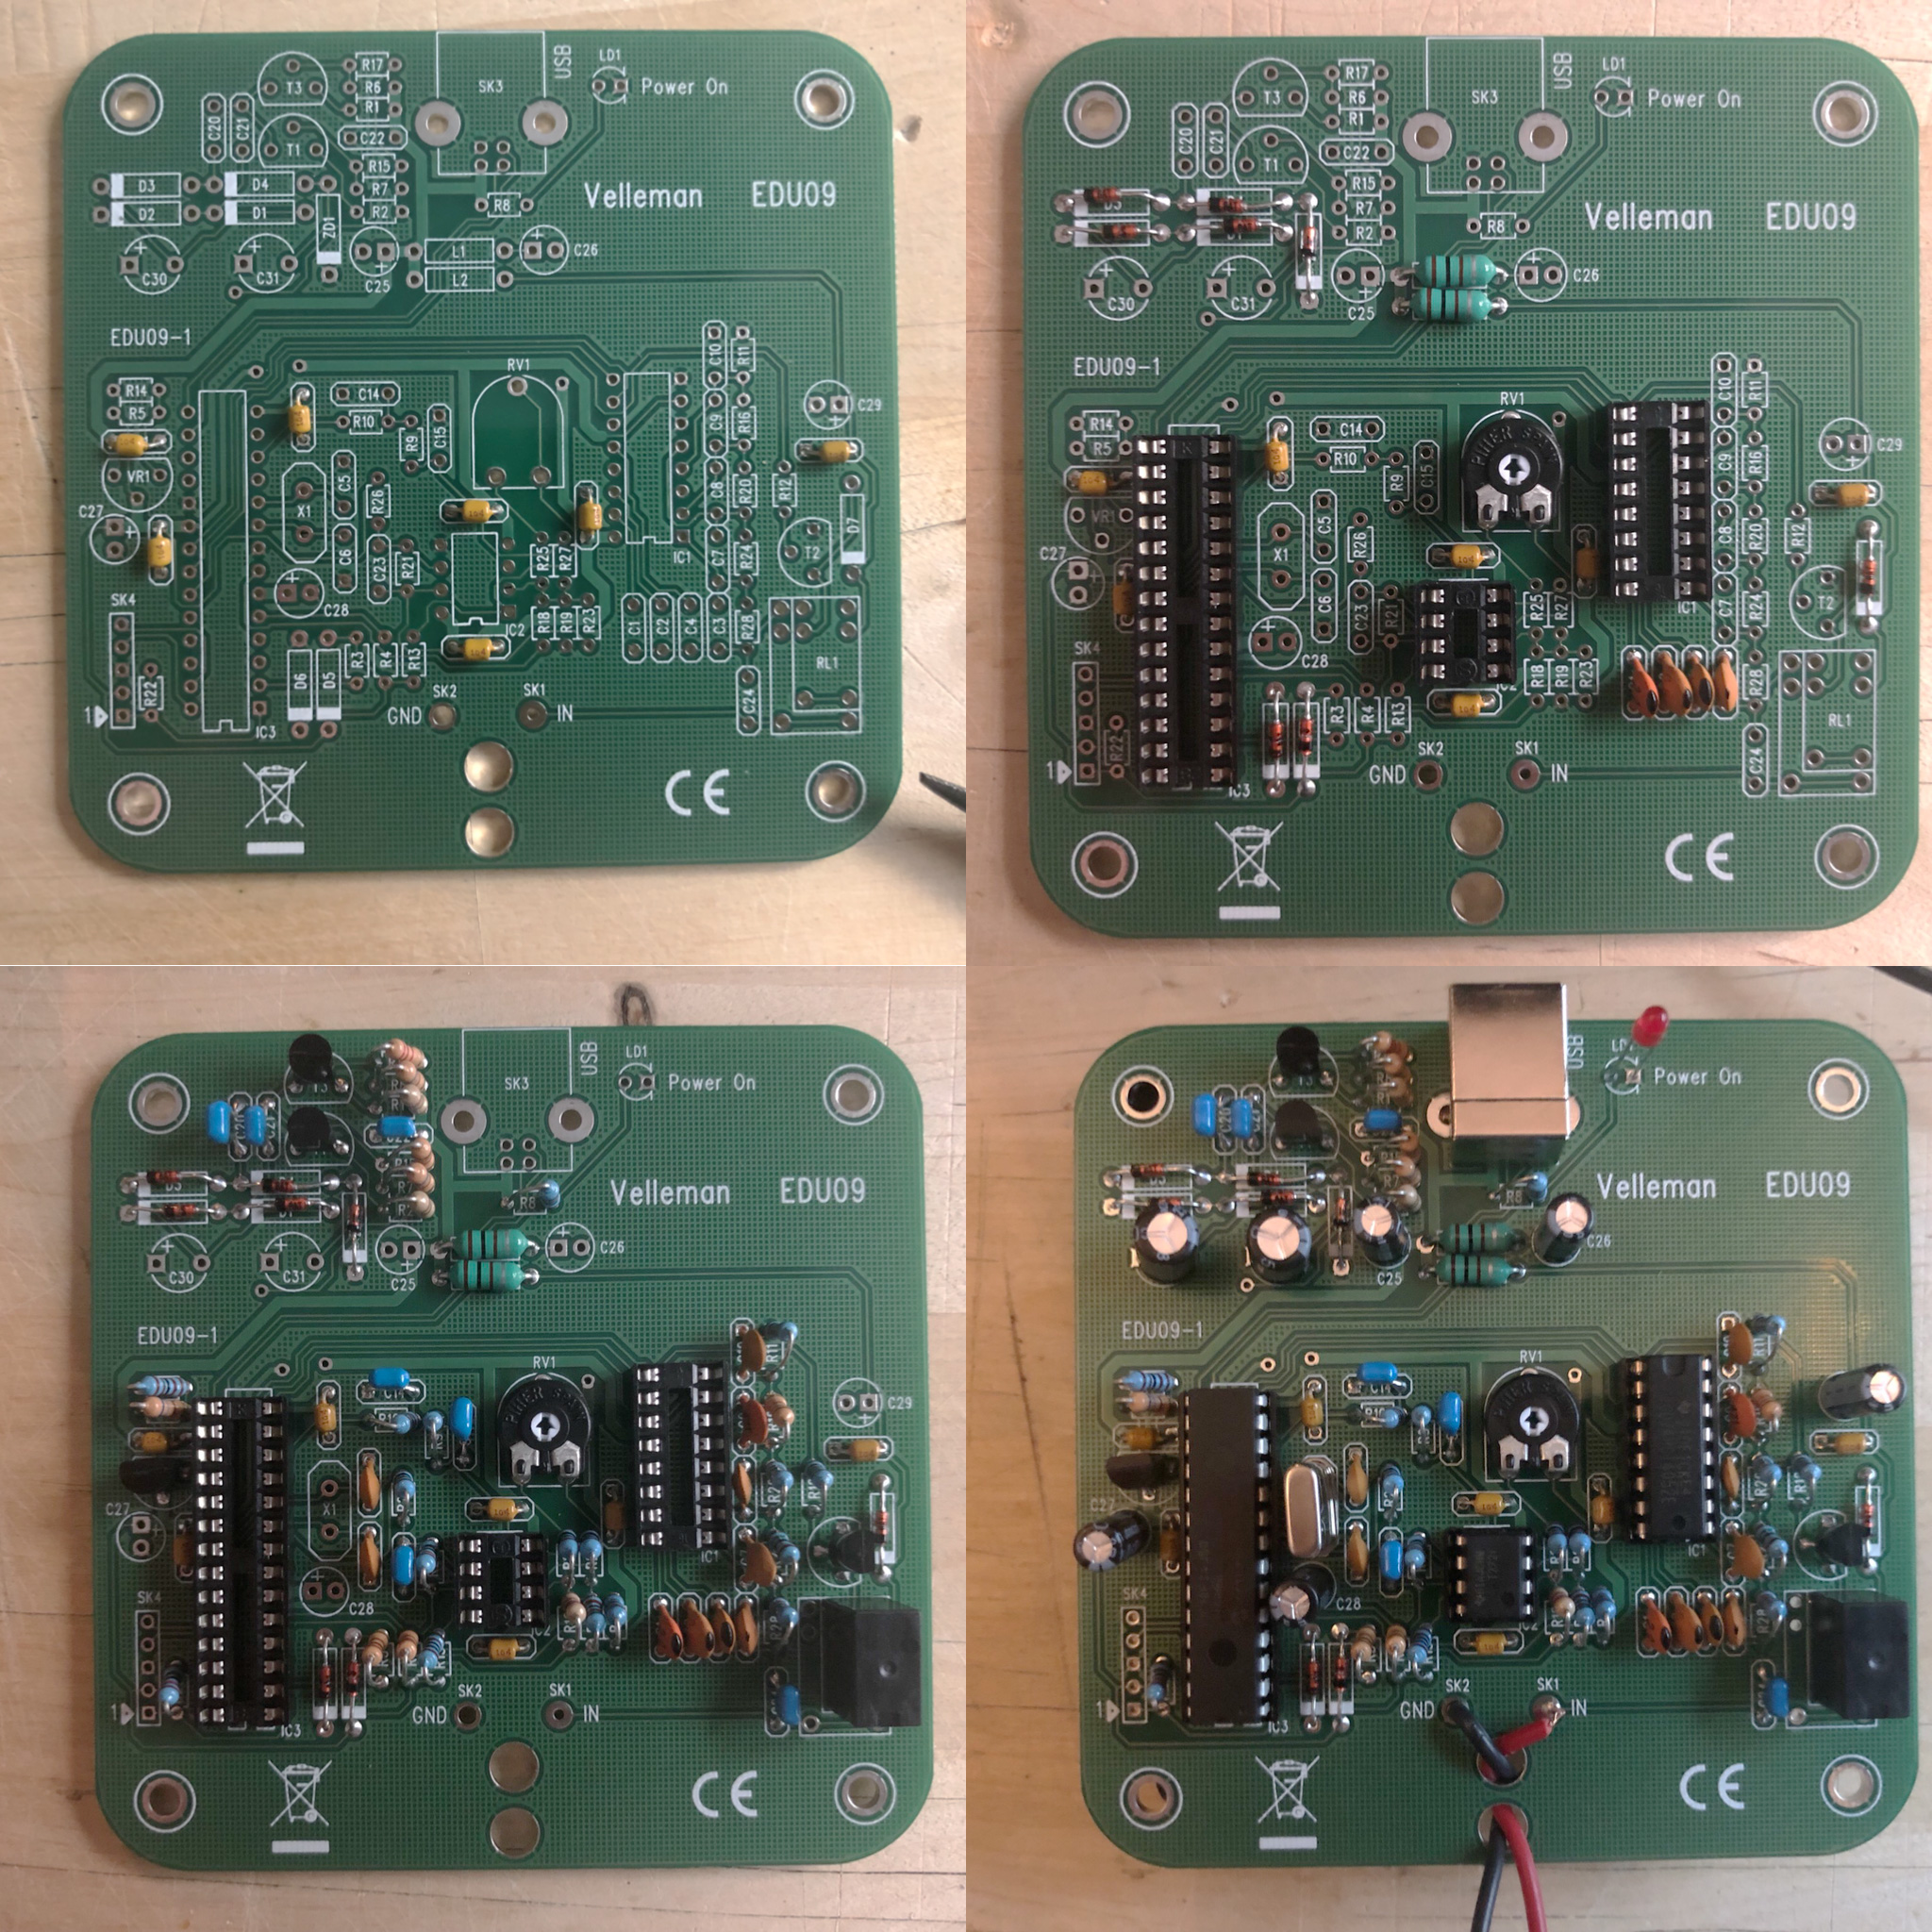Capacitor: (1131, 1201, 1203, 1286), (1246, 1207, 1315, 1288), (1817, 1361, 1907, 1419), (1530, 1191, 1598, 1267), (1072, 1507, 1148, 1575), (1265, 1562, 1336, 1629), (1350, 1196, 1412, 1269)
Diode: (1097, 219, 1145, 246), (1293, 711, 1320, 759), (1203, 191, 1253, 216), (1123, 1159, 1175, 1182), (1858, 552, 1881, 600), (1267, 713, 1286, 766), (258, 1173, 303, 1196), (1302, 1654, 1325, 1698), (1077, 184, 1125, 205), (1330, 1649, 1352, 1695), (315, 1656, 336, 1700), (1256, 1187, 1300, 1208), (1297, 221, 1320, 262), (1215, 216, 1263, 235), (154, 1201, 202, 1221), (1244, 1169, 1290, 1189), (1856, 1495, 1875, 1541), (267, 1196, 317, 1214), (872, 1502, 892, 1546), (343, 1201, 364, 1240), (143, 1169, 189, 1187), (1332, 1194, 1353, 1230), (1139, 1194, 1191, 1208), (345, 1656, 363, 1697)
LED: (1629, 1003, 1670, 1049)
Resistor: (1431, 1215, 1518, 1256), (448, 1224, 531, 1261), (1414, 253, 1499, 288), (1407, 288, 1495, 322), (1433, 1253, 1516, 1286), (448, 1260, 529, 1292), (763, 1525, 807, 1573), (1753, 1518, 1794, 1566), (1744, 1306, 1792, 1345), (382, 1035, 430, 1070), (134, 1373, 193, 1401), (761, 1389, 800, 1431), (1750, 1384, 1787, 1426), (136, 1396, 191, 1424), (416, 1628, 448, 1675), (361, 1624, 393, 1672), (157, 1661, 188, 1711), (1122, 1368, 1177, 1394), (1125, 1389, 1180, 1415), (803, 1456, 840, 1495), (531, 1175, 566, 1215), (1391, 1123, 1424, 1166), (1376, 1458, 1410, 1500), (1348, 1622, 1380, 1667), (764, 1458, 800, 1497), (764, 1594, 803, 1629), (1753, 1589, 1789, 1628), (1369, 1028, 1410, 1062), (580, 1589, 609, 1637), (412, 1536, 444, 1578), (389, 1467, 421, 1509), (1145, 1656, 1173, 1704), (1401, 1532, 1433, 1575), (1792, 1451, 1824, 1493), (759, 1316, 803, 1346), (387, 1060, 432, 1090), (1378, 1049, 1415, 1085), (1389, 1154, 1426, 1189), (1750, 1451, 1785, 1488), (400, 1189, 441, 1221), (1384, 1076, 1419, 1111), (1407, 1624, 1435, 1668), (403, 1134, 437, 1171), (559, 1589, 591, 1628), (393, 1626, 425, 1663), (386, 1408, 423, 1440), (398, 1083, 432, 1116), (1545, 1583, 1578, 1617), (1394, 1180, 1426, 1215), (1571, 1587, 1598, 1629), (402, 1162, 439, 1192), (552, 1527, 582, 1564), (1522, 1168, 1552, 1205), (1541, 1522, 1571, 1557), (1384, 1621, 1408, 1663), (579, 1527, 605, 1566), (1568, 1520, 1594, 1559), (1591, 1585, 1617, 1624), (1375, 1403, 1412, 1430), (1408, 1399, 1437, 1433), (603, 1592, 628, 1629), (419, 1405, 449, 1433)
